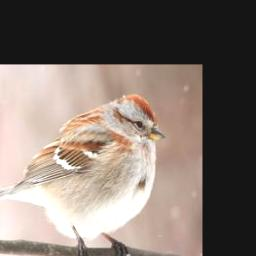Sparrow: (0, 94, 165, 256)
